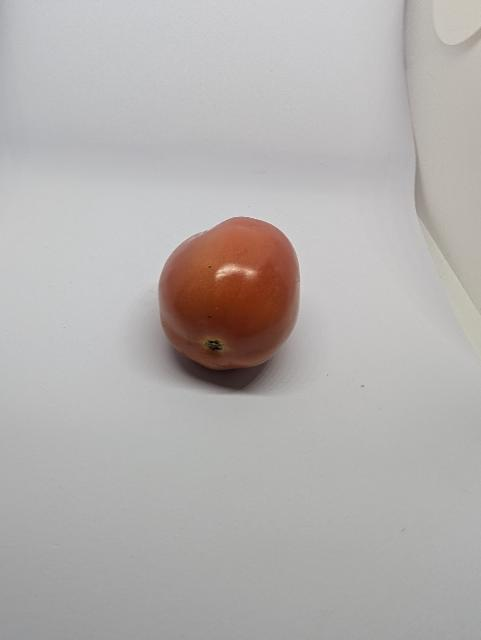red: (140, 206, 326, 387)
